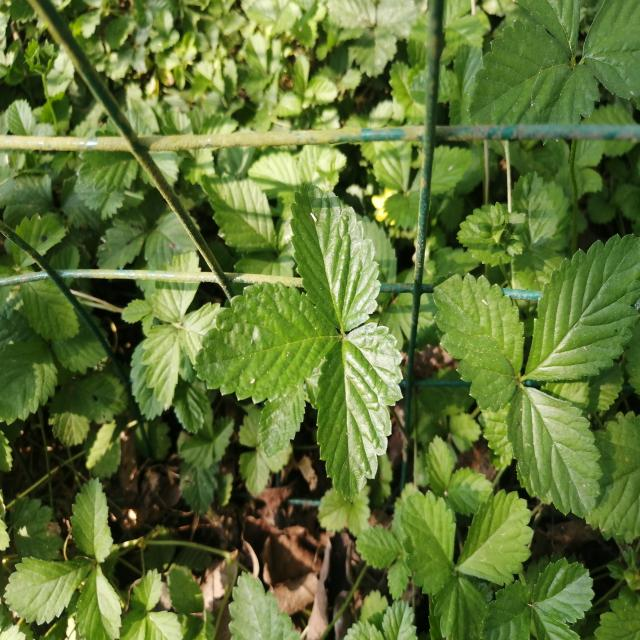Mock_strawberry: (379, 474, 564, 610)
